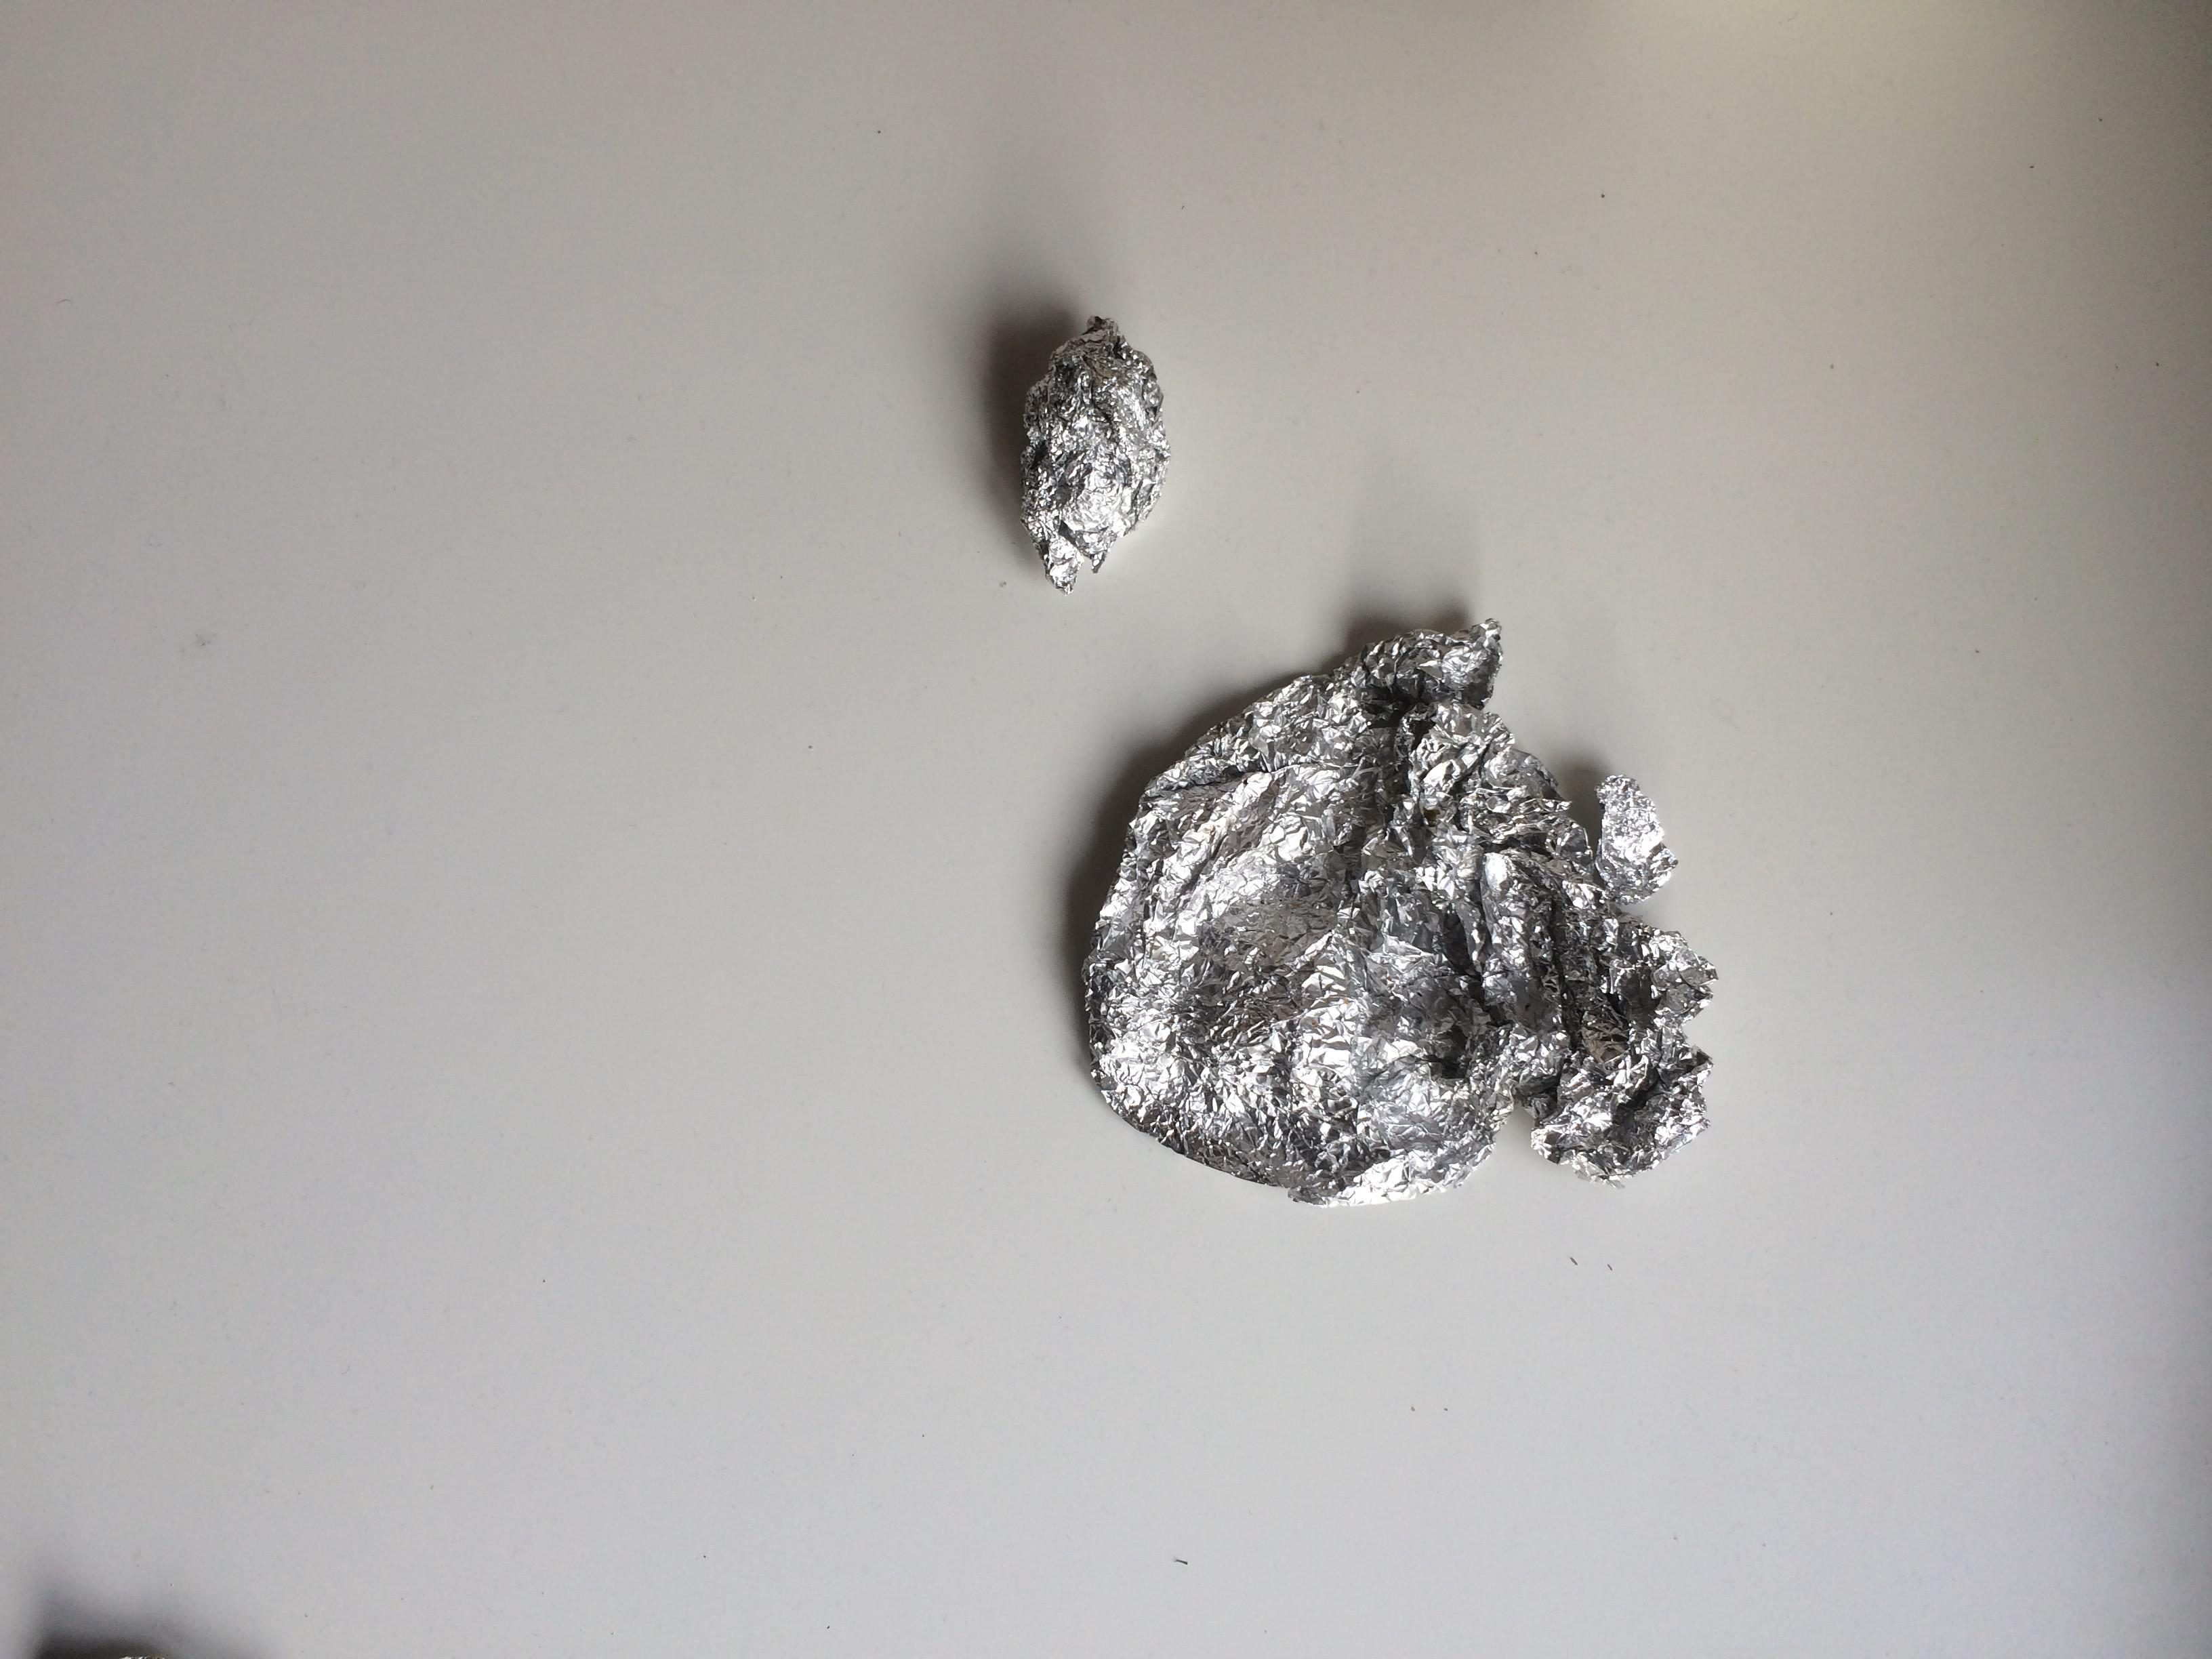Trash: (1078, 610, 1716, 1211), (1012, 307, 1169, 598)
